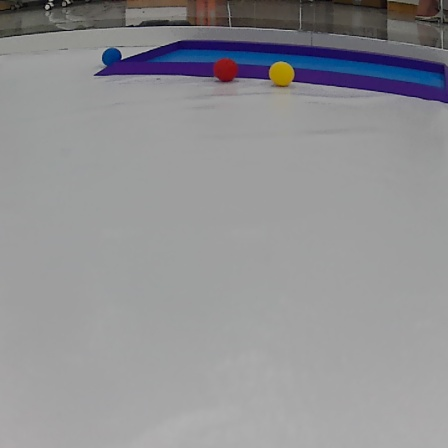blue: (101, 48, 124, 66)
blue_aim: (94, 39, 448, 105)
red: (211, 56, 241, 83)
yellow: (267, 57, 295, 89)
